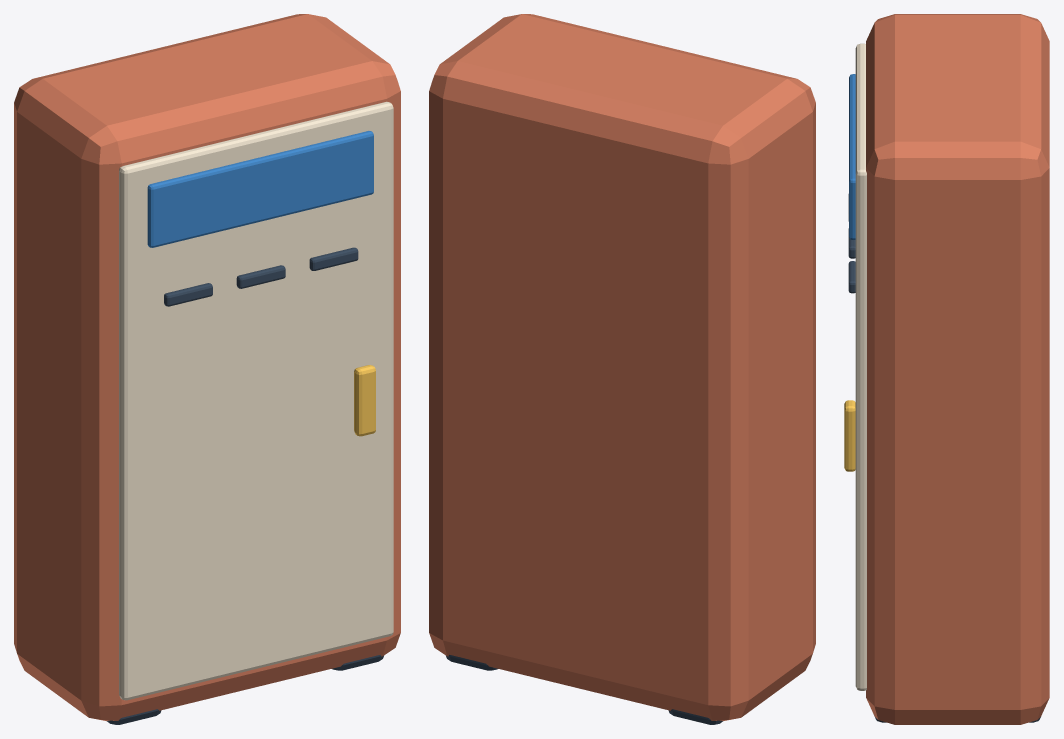
File: CR_Locker.fbx
3 renders of one model, left to right at view 1: azimuth 30°, elevation 25°; view 2: azimuth 150°, elevation 25°; view 3: azimuth 270°, elevation 25°, orthographic. The views are drawn at different scales.
Visible parts, largest first — view 1: Door_Cream, Body_Terracotta, Header_Cobalt, Handle_Gold, Vent_Ink.001, Vent_Ink.002, Vent_Ink; view 2: Body_Terracotta; view 3: Body_Terracotta, Door_Cream, Header_Cobalt, Handle_Gold.
Part boxes in pixels (x1,y1,x2,y2): Door_Cream: (119, 101, 393, 700); Body_Terracotta: (14, 14, 400, 720); Header_Cobalt: (147, 131, 373, 247); Handle_Gold: (354, 365, 375, 436); Vent_Ink.001: (236, 265, 285, 288); Vent_Ink.002: (309, 247, 358, 270); Vent_Ink: (164, 283, 212, 306); Body_Terracotta: (429, 14, 815, 720); Body_Terracotta: (866, 14, 1049, 724); Door_Cream: (855, 43, 866, 690); Header_Cobalt: (849, 74, 855, 239); Handle_Gold: (844, 400, 855, 471).
Size of the model in its own units: 1.48 by 2.66 by 0.85.
